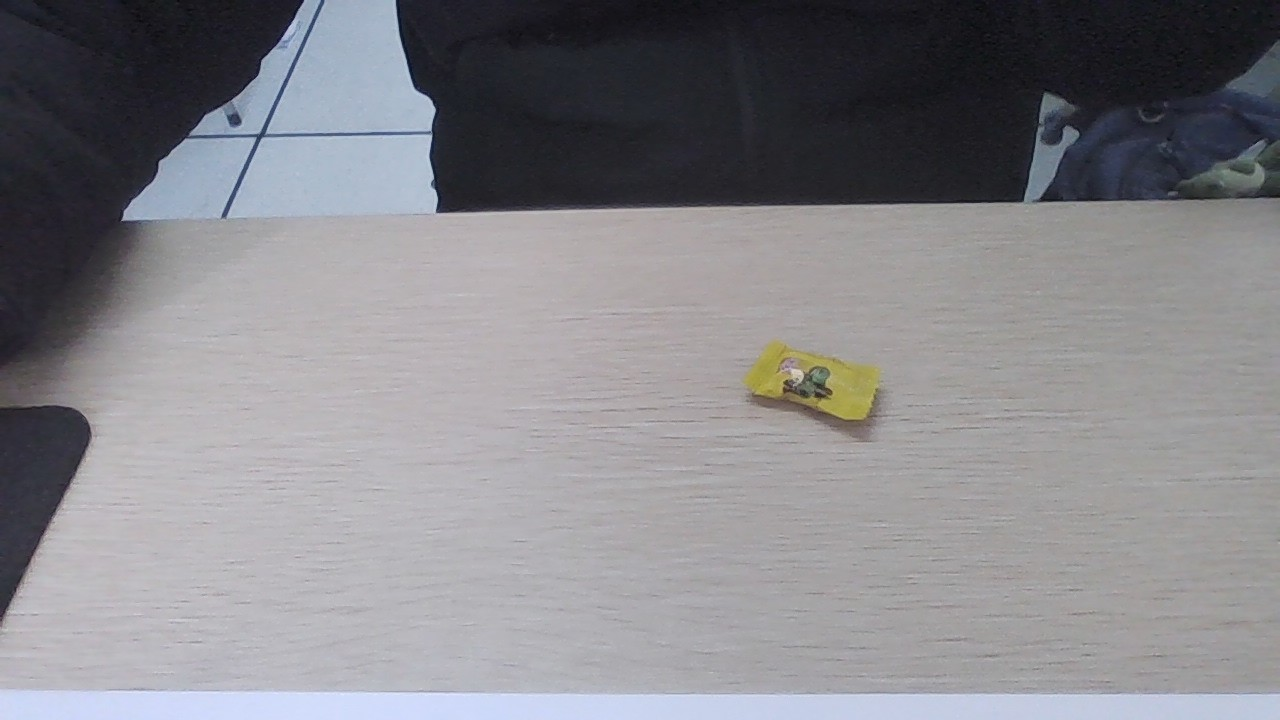CY-sugar: (746, 344, 880, 420)
